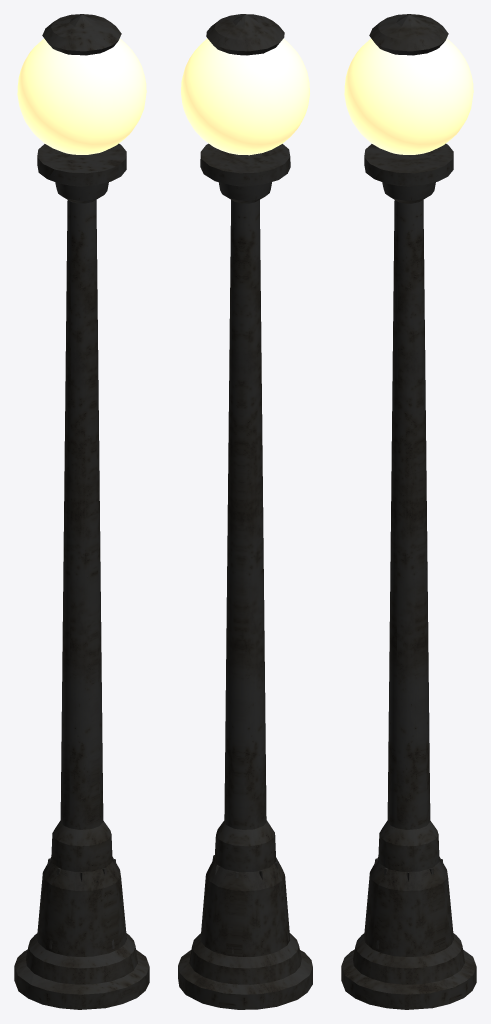
The model's file is den_ven_ho.glb.
3 views of the same model, side by side, from view 1: azimuth 90°, elevation 25°; view 2: azimuth 210°, elevation 25°; view 3: azimuth 270°, elevation 25° (orthographic).
Visible parts, largest first — view 1: cast_iron_column, lantern_globe; view 2: cast_iron_column, lantern_globe; view 3: cast_iron_column, lantern_globe.
Boxes of the visible parts, <box> form: cast_iron_column: <box>14,14,149,1009</box>; lantern_globe: <box>17,38,146,154</box>; cast_iron_column: <box>178,14,312,1009</box>; lantern_globe: <box>181,38,309,155</box>; cast_iron_column: <box>341,14,476,1009</box>; lantern_globe: <box>344,38,473,154</box>.
Size of the model in its own units: 0.4825 by 3.8 by 0.4825.
2 materials, 1 textured.
